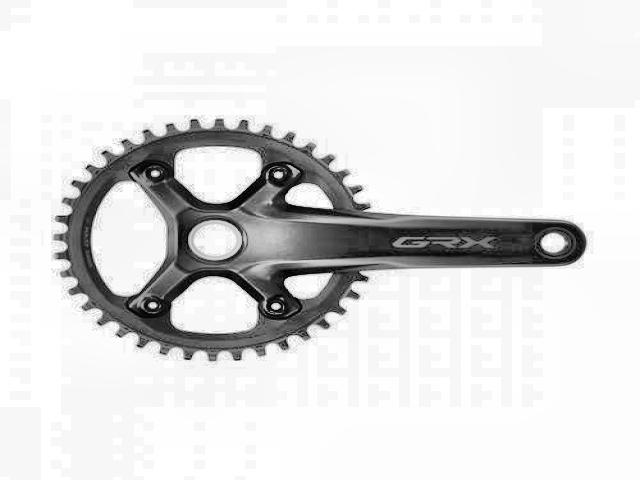cranks_set: (50, 118, 586, 363)
